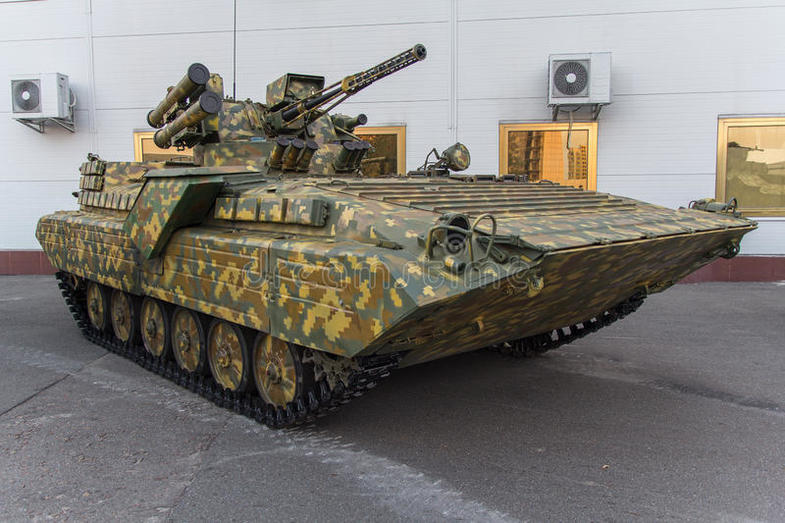bmp: (38, 106, 727, 429)
